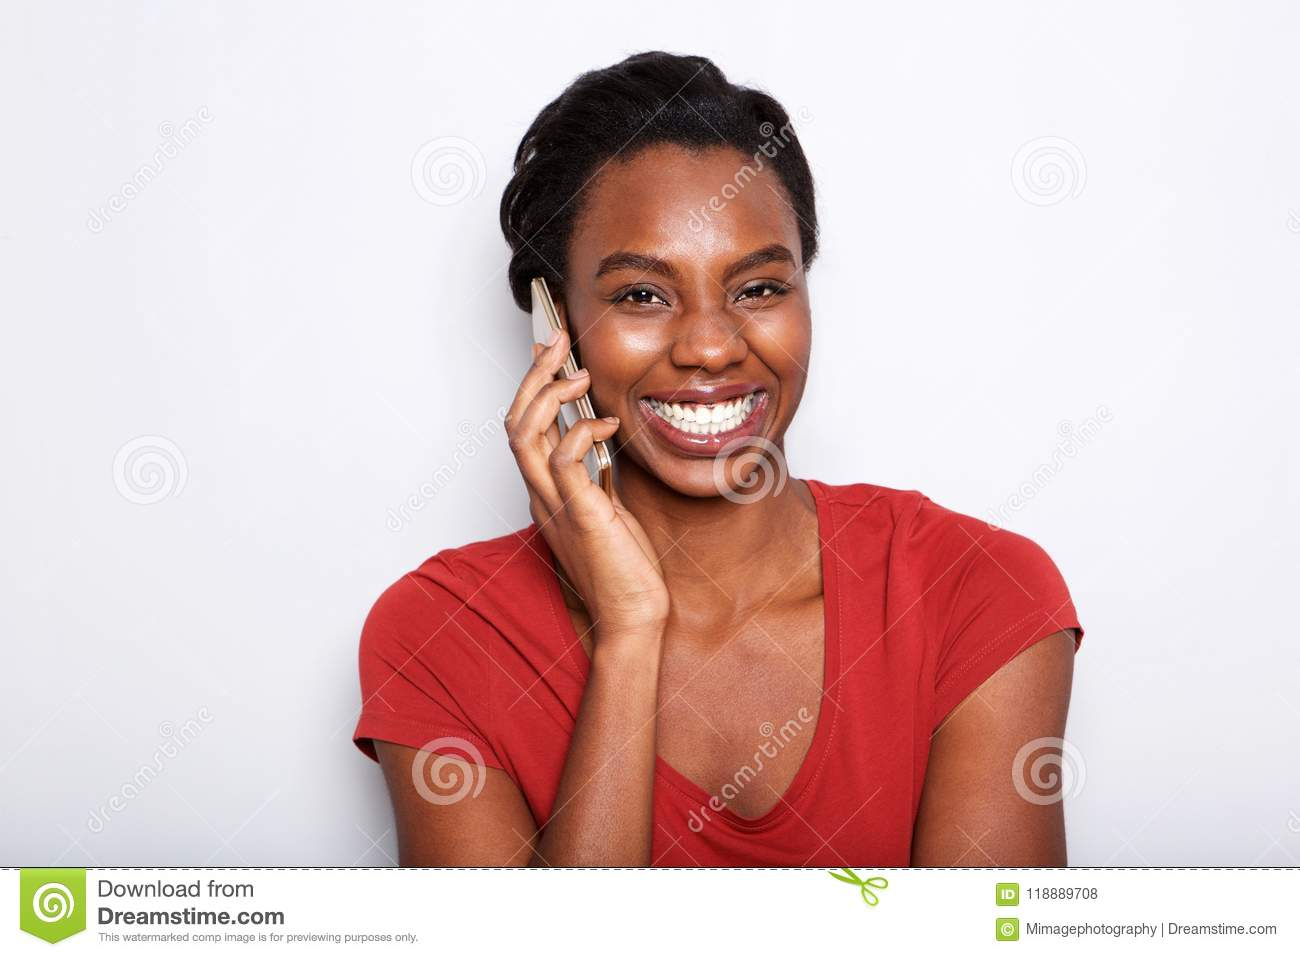phone: (524, 281, 615, 515)
talk: (504, 224, 815, 667)
